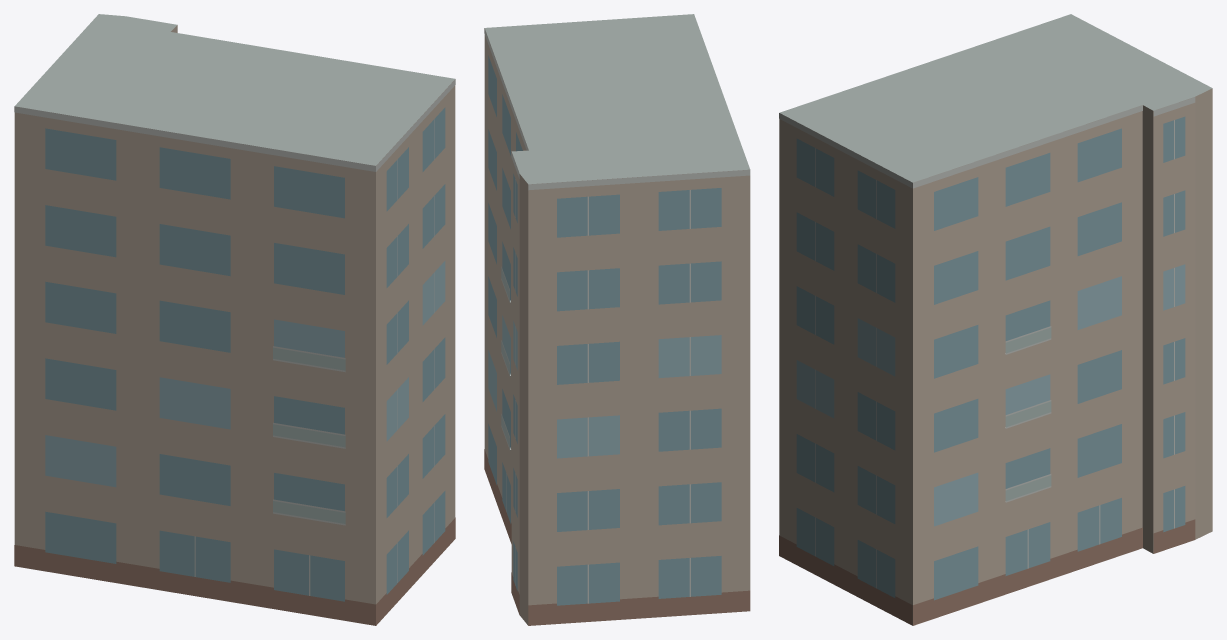
Rendered from survey-upis-32956669.glb.
3 renders of one model, left to right at view 1: azimuth 30°, elevation 25°; view 2: azimuth 150°, elevation 25°; view 3: azimuth 270°, elevation 25°, orthographic. The views are drawn at different scales.
Parts seen in each view (by area): view 1: survey-upis-32956669.tmp; view 2: survey-upis-32956669.tmp; view 3: survey-upis-32956669.tmp.
Part boxes in pixels (x1=…): survey-upis-32956669.tmp: x1=14, y1=14, x2=455, y2=625; survey-upis-32956669.tmp: x1=484, y1=14, x2=750, y2=625; survey-upis-32956669.tmp: x1=779, y1=14, x2=1212, y2=625.
Size of the model in its own units: 14.95 by 18.3 by 16.23.
